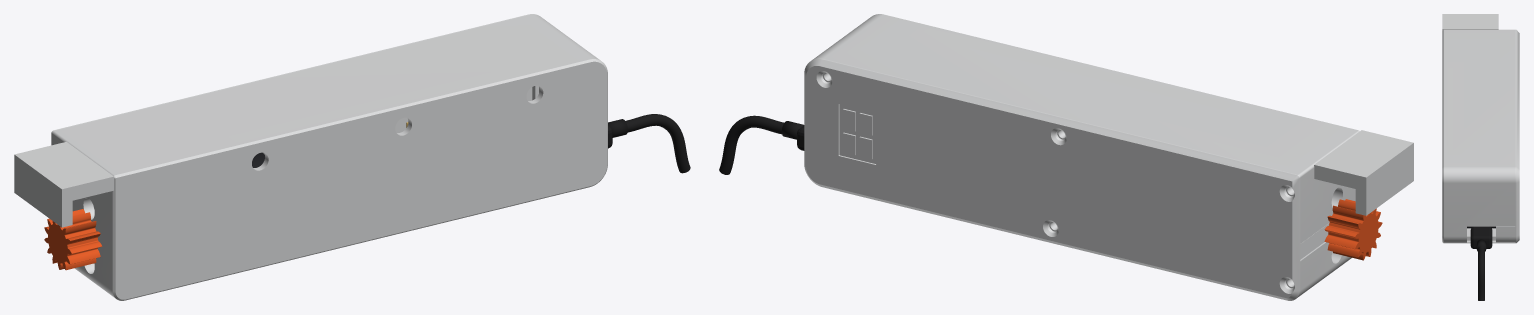
The model's file is v4_closed.glb.
The picture shows the model from 3 angles, left to right: view 1: azimuth 30°, elevation 25°; view 2: azimuth 150°, elevation 25°; view 3: azimuth 270°, elevation 25°; orthographic projection. The views are drawn at different scales.
Parts seen in each view (by area): view 1: tub, pinion, c, lid; view 2: lid, tub, pinion, c; view 3: tub, lid, Cube, c, Cylinder.
Part boxes in pixels (x1=…): tub: x1=14, y1=14, x2=607, y2=300; pinion: x1=44, y1=209, x2=102, y2=270; c: x1=625, y1=114, x2=690, y2=173; lid: x1=51, y1=14, x2=538, y2=145; lid: x1=804, y1=58, x2=1329, y2=300; tub: x1=813, y1=14, x2=1413, y2=297; pinion: x1=1324, y1=199, x2=1382, y2=260; c: x1=719, y1=115, x2=783, y2=174; tub: x1=1442, y1=14, x2=1515, y2=243; lid: x1=1496, y1=29, x2=1519, y2=243; Cube: x1=1470, y1=226, x2=1492, y2=248; c: x1=1478, y1=246, x2=1484, y2=300; Cylinder: x1=1476, y1=239, x2=1486, y2=251.
Size of the model in its own units: 0.2166 by 0.0521 by 0.037.
